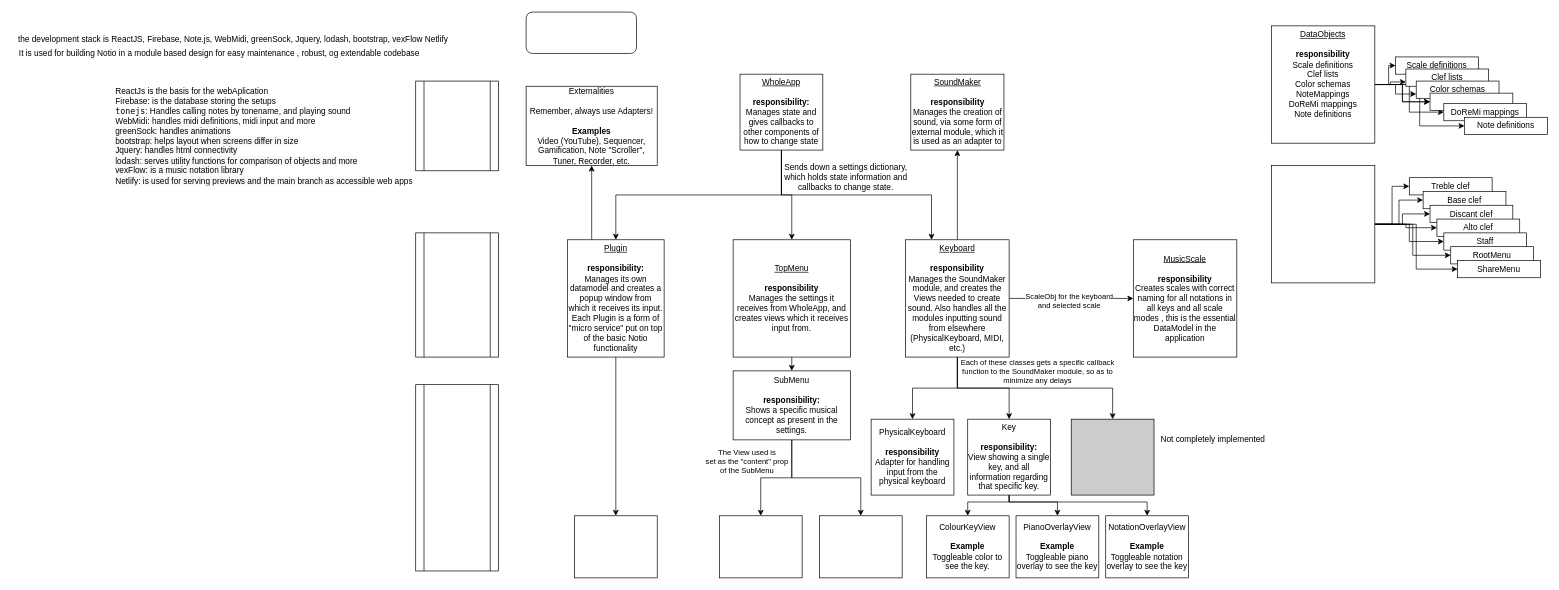
This 1559x590 diagram has some shape labels left out. The centre of each missing label's shape, as x and y in pixels:
"Controllers" goes at point 457,294.
"Dependencies" goes at point 457,125.
"ListView Example A standard ListView for a musical concept" goes at point 760,546.
"MIDIInput responsibility: Adapter for MIDI input" goes at point 1112,456.
"Name = testable module Name = implementation detail" goes at point 581,32.
"NoteMappings" goes at point 1471,101.
"PopupView Example A view which can be moved on top of all other views." goes at point 615,546.
"reusable UI-Elements responsibility Cleff designs Staff designs Menu designs" goes at point 1323,224.
"ToggleView Example A standard Toggle for at musical concept" goes at point 860,546.
"Views" goes at point 457,477.
